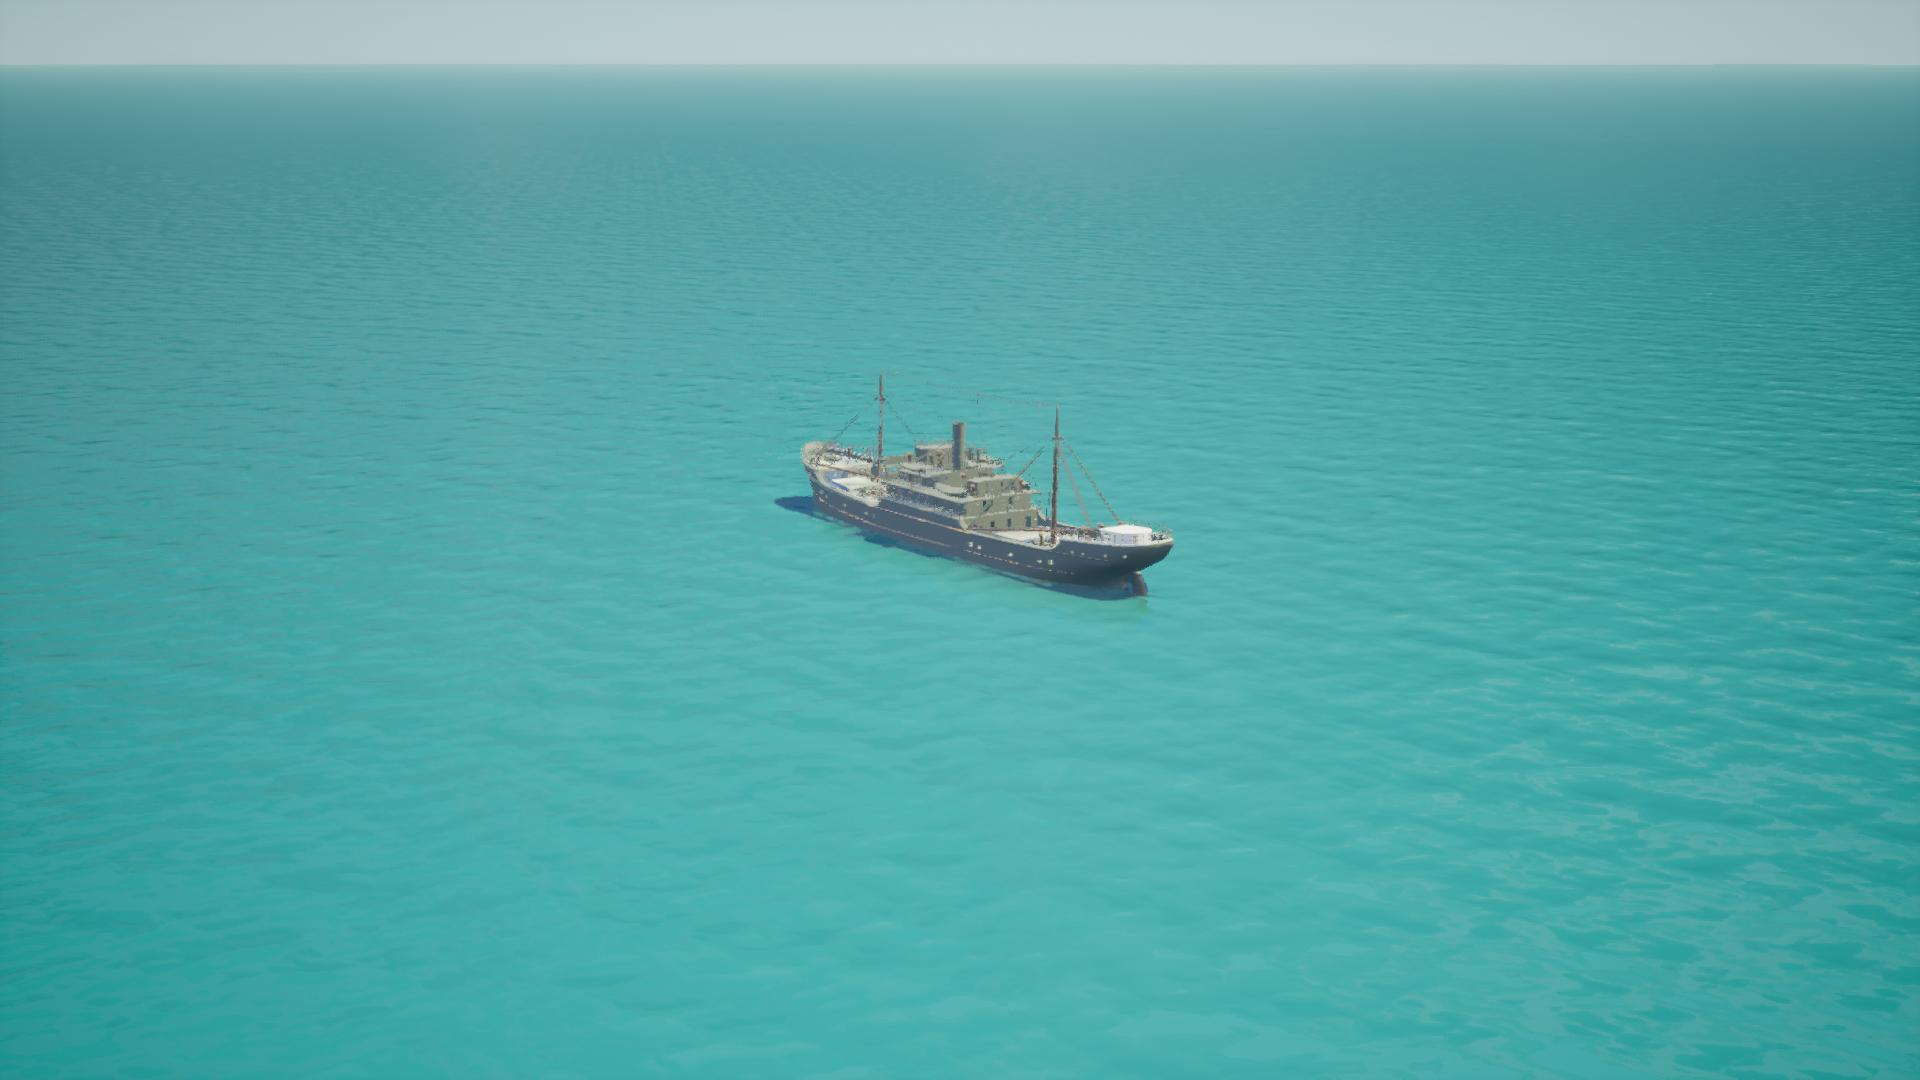Fishing Boat: (789, 389, 1167, 599)
